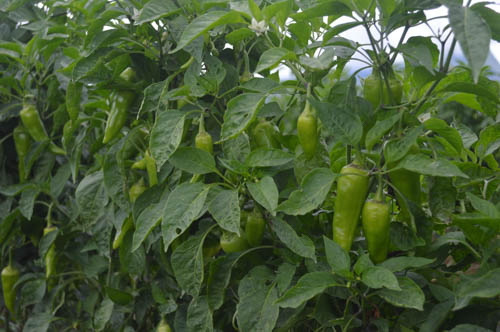ChiliPepper: (331, 167, 368, 260), (93, 88, 130, 145), (388, 147, 421, 207), (363, 200, 392, 264), (194, 134, 218, 191), (293, 118, 319, 164), (23, 108, 53, 143), (40, 228, 62, 274), (108, 217, 135, 250), (246, 214, 265, 250), (1, 270, 18, 307), (7, 128, 30, 154), (219, 231, 242, 251)
